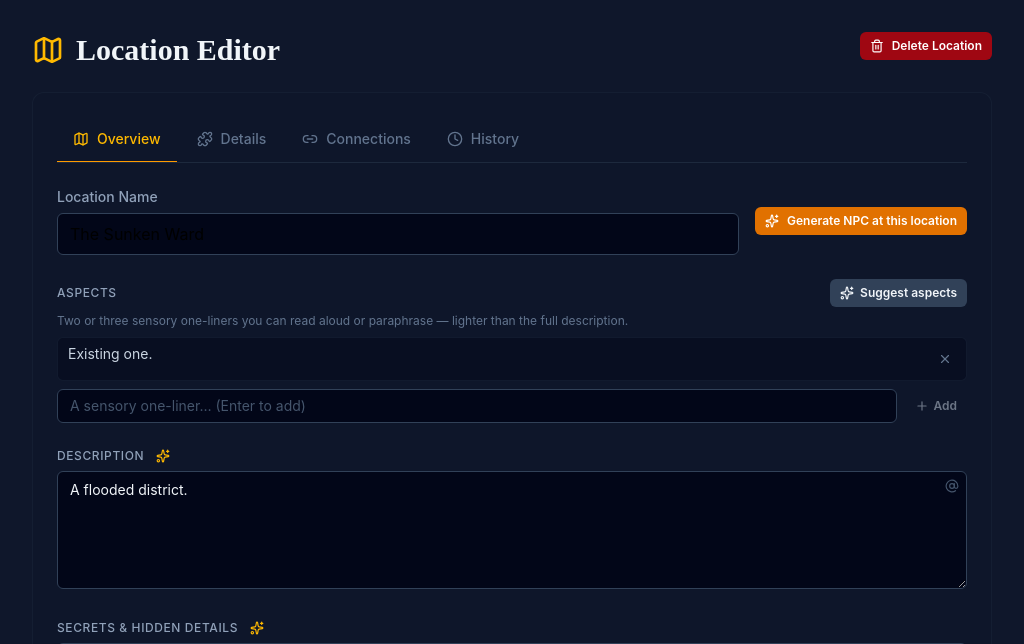
Test: LocationEditor — Suggest aspects (zero-typed-prompt AI) › merges the suggestion into the existing list, deduplicated, and commits it
Click the button "Suggest aspects" at (899, 293), box [830,279,967,307]
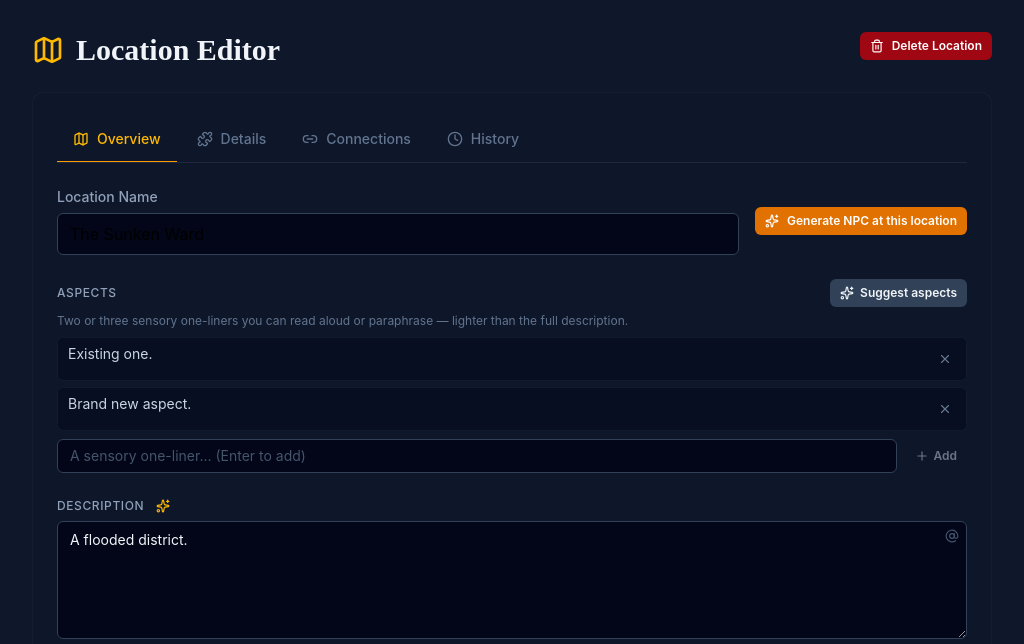
Expected: the text "Brand new aspect." is shown, [68,395,191,412]
